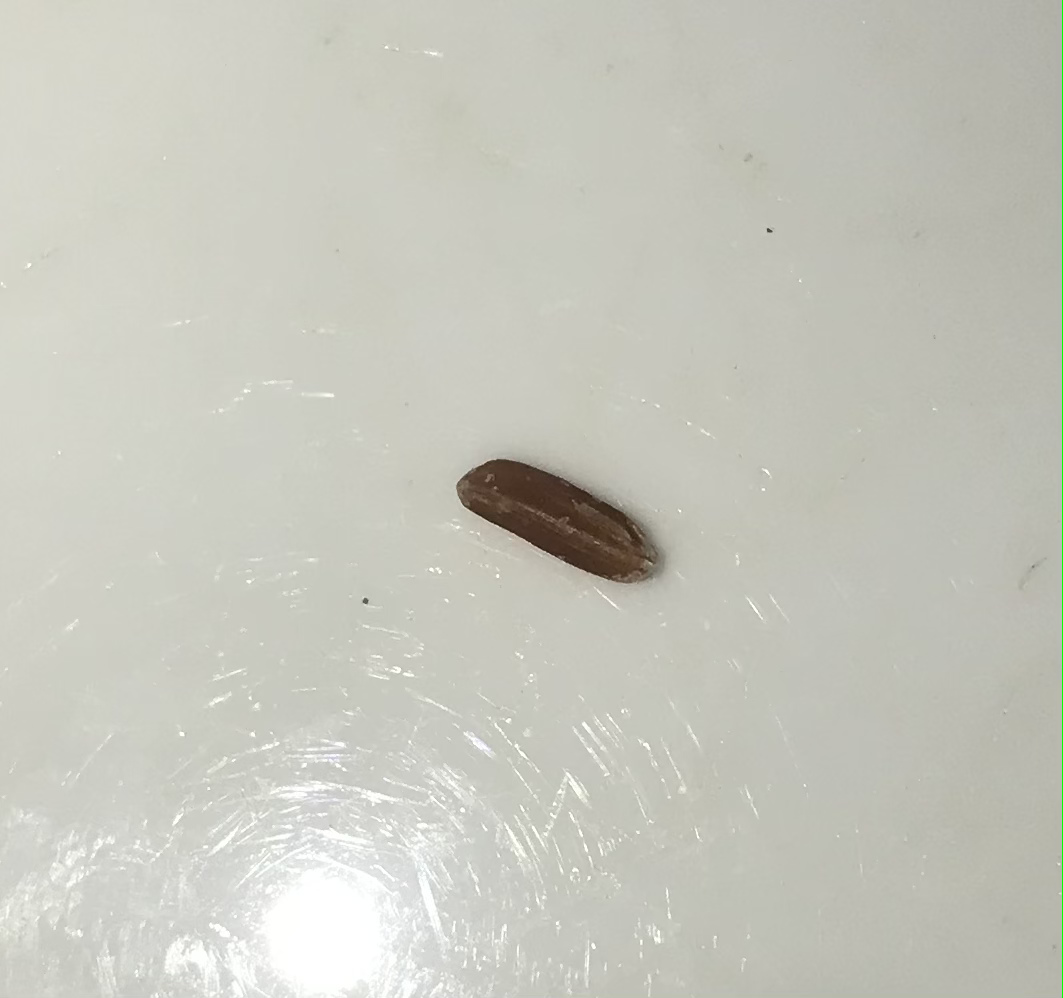Gao Lut Do: (441, 435, 667, 591)
